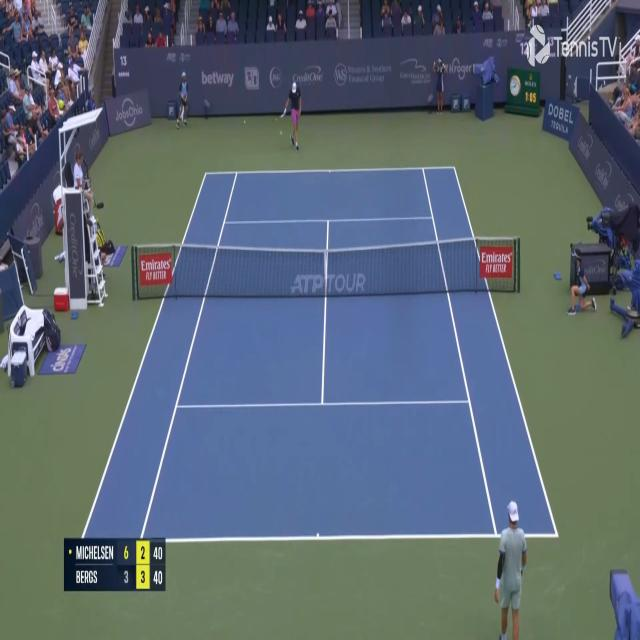tennis-player: (492, 498, 527, 640), (276, 81, 302, 154)
